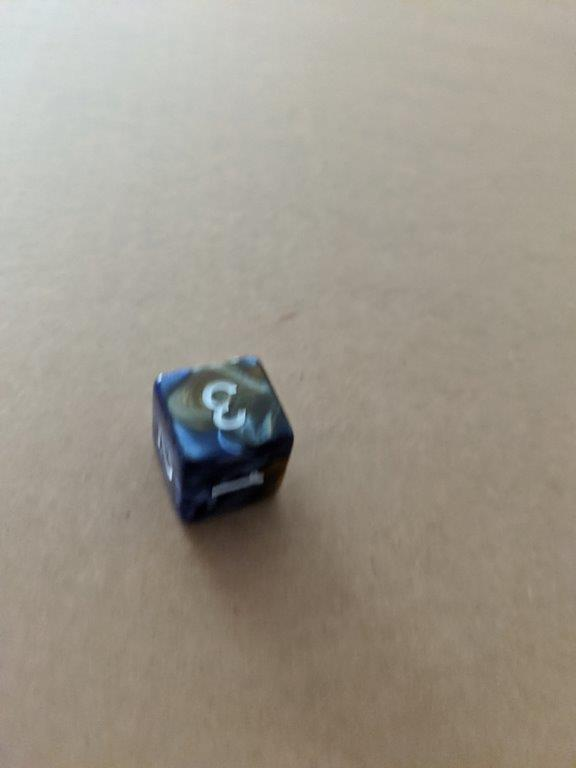d6-3: (147, 354, 295, 531)
